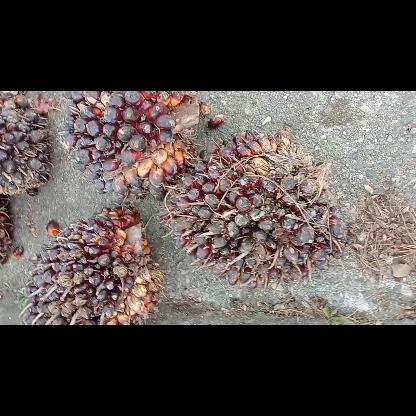TBS mentah: (166, 128, 346, 290), (20, 202, 162, 324), (61, 91, 201, 204), (2, 91, 50, 195)
